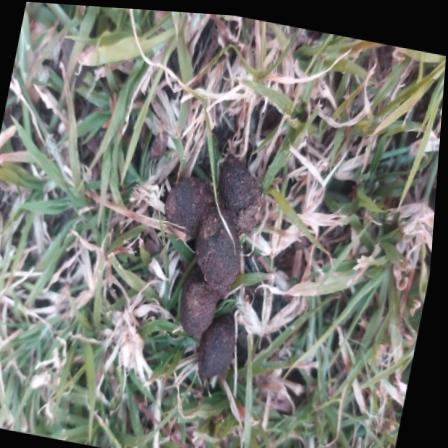dog-poop: (129, 134, 299, 395)
